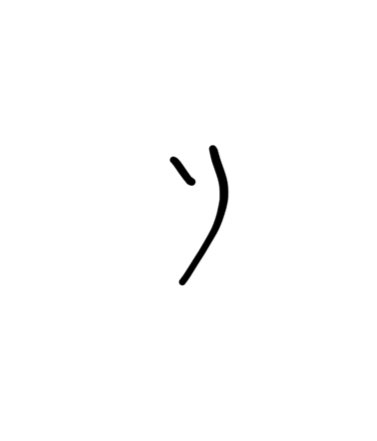so: (149, 136, 234, 291)
